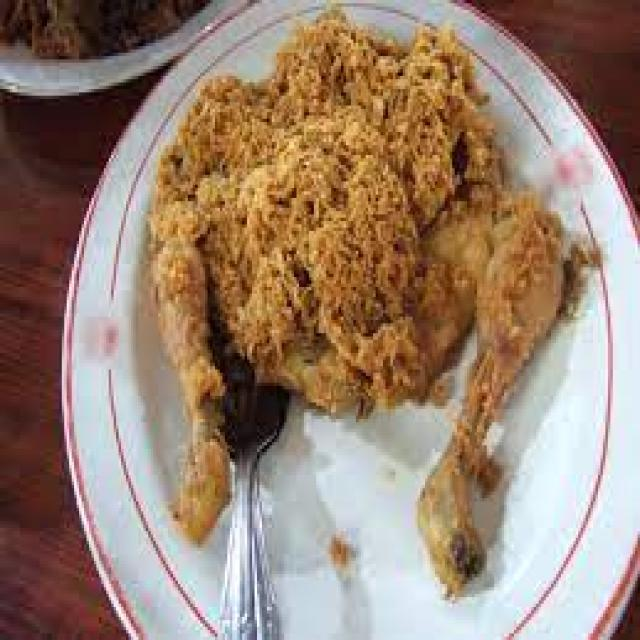Frango: (237, 120, 484, 397)
